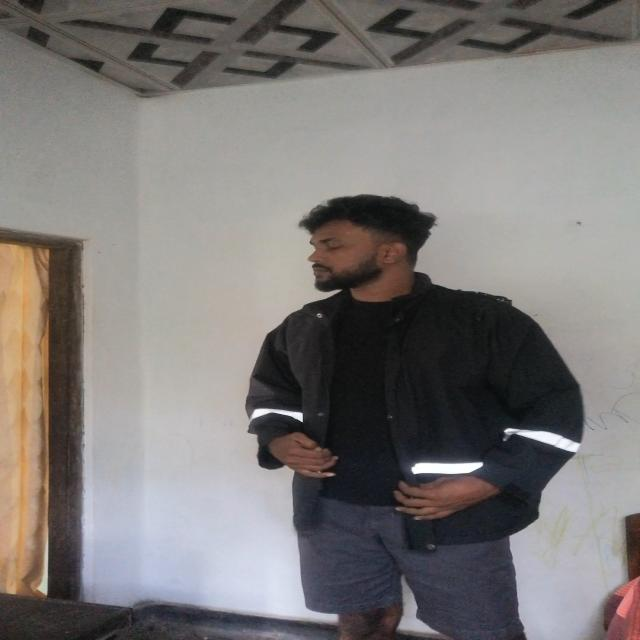Jacket_Wearer: (233, 281, 597, 549)
